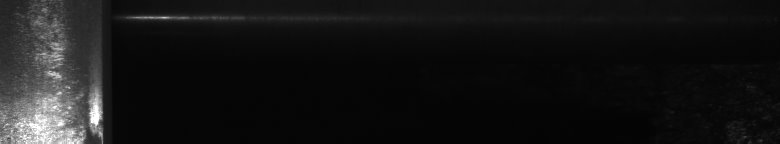kb: (4, 5, 88, 136)
